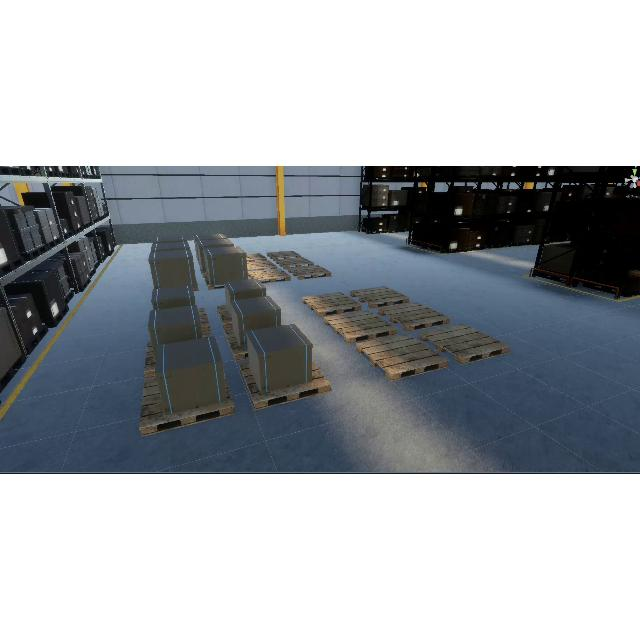wooden_pallet: (138, 378, 235, 438), (355, 333, 450, 382), (239, 362, 331, 410), (419, 324, 511, 365), (322, 309, 397, 345), (378, 301, 452, 332), (301, 291, 362, 317), (350, 287, 410, 308), (288, 265, 332, 280), (276, 257, 314, 269)
